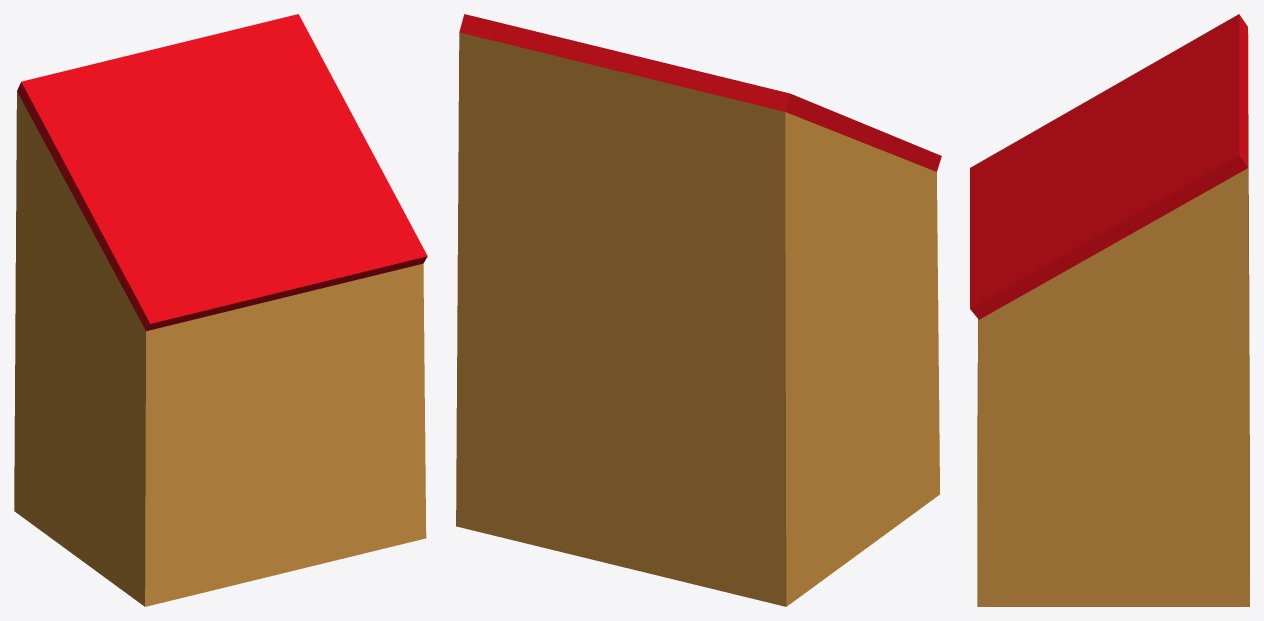
Rendered from SM_casa4l.fbx.
3 renders of one model, left to right at view 1: azimuth 30°, elevation 25°; view 2: azimuth 150°, elevation 25°; view 3: azimuth 270°, elevation 25°, orthographic. The views are drawn at different scales.
Parts seen in each view (by area): view 1: SM_casa5; view 2: SM_casa5; view 3: SM_casa5.
Boxes of the visible parts, left/top/right/bottom form: SM_casa5: left=14, top=14, right=427, bottom=606; SM_casa5: left=456, top=14, right=941, bottom=606; SM_casa5: left=970, top=14, right=1249, bottom=606.
Size of the model in its own units: 444 by 654 by 368.
